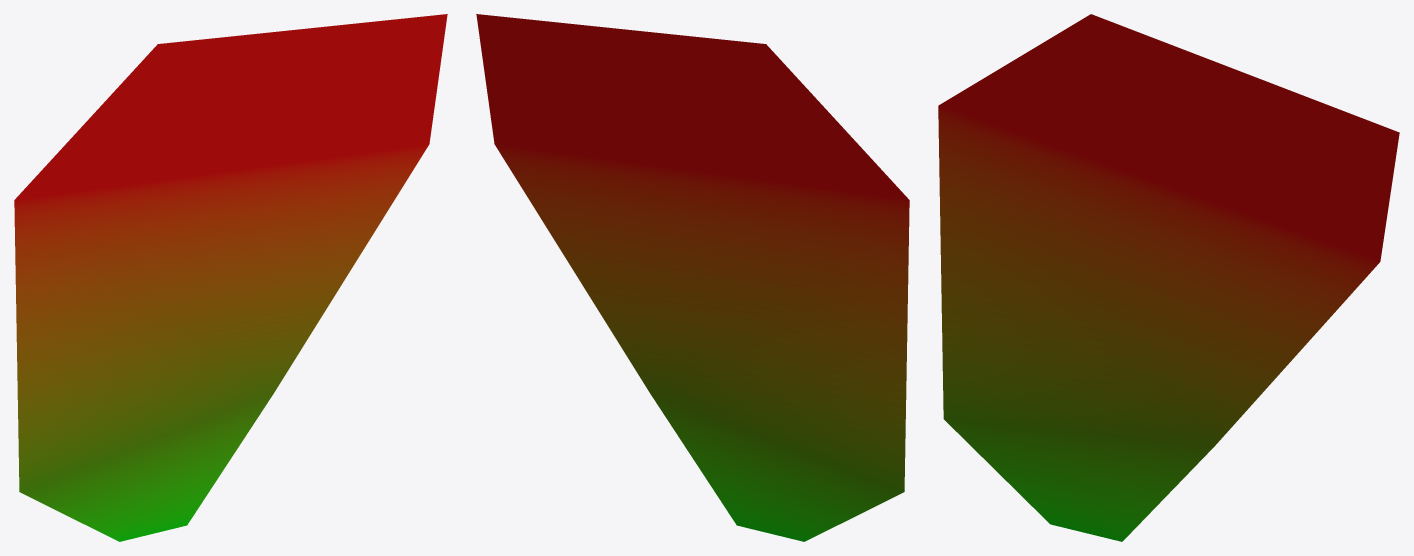
File: Great Brome_LOD5_Var2_tjugaikia.fbx
3 views of the same model, side by side, from view 1: azimuth 30°, elevation 25°; view 2: azimuth 150°, elevation 25°; view 3: azimuth 330°, elevation 25° (orthographic). The views are drawn at different scales.
Visible parts, largest first — view 1: _5003_Var2_LOD5; view 2: _5003_Var2_LOD5; view 3: _5003_Var2_LOD5.
Part boxes in pixels (left/top/right/bottom): _5003_Var2_LOD5: left=14, top=14, right=447, bottom=541; _5003_Var2_LOD5: left=476, top=14, right=909, bottom=541; _5003_Var2_LOD5: left=938, top=14, right=1399, bottom=541.
Size of the model in its own units: 61.21 by 65.96 by 9.54e-07.
